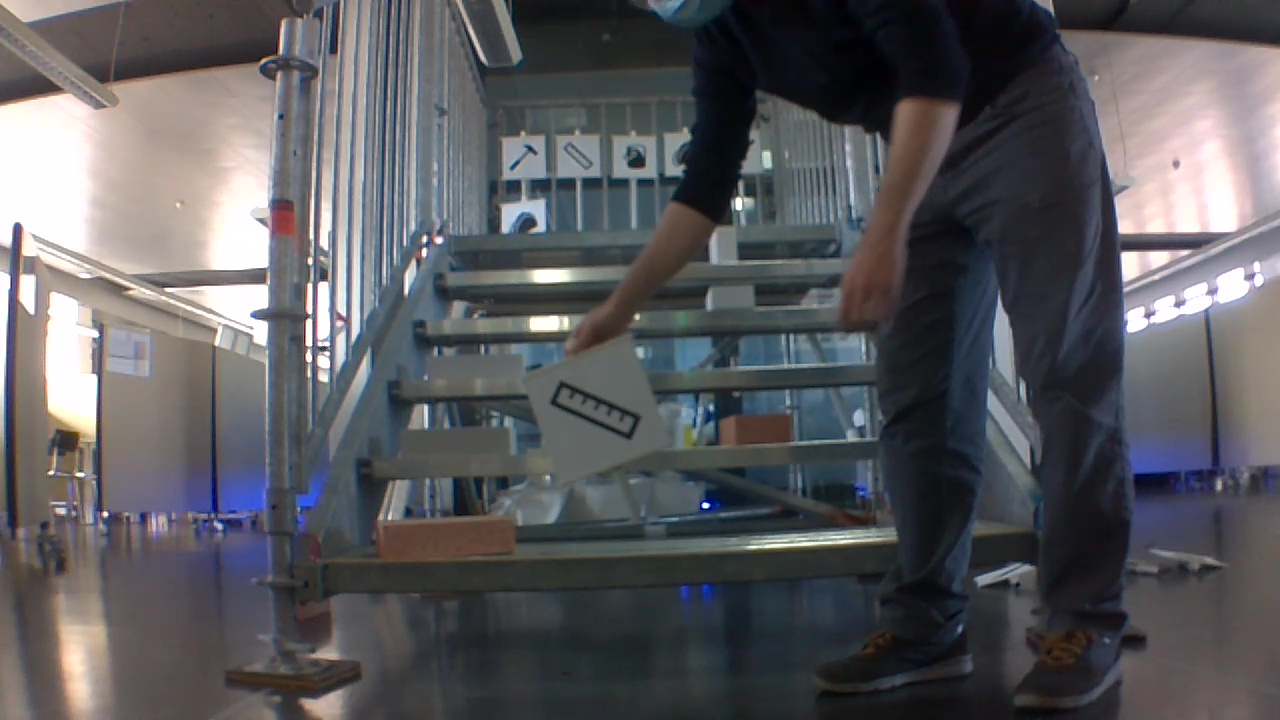brick: (377, 513, 517, 560), (395, 423, 512, 457), (425, 349, 523, 381), (718, 408, 797, 445), (698, 282, 752, 313), (706, 228, 739, 269)
bucket: (622, 142, 649, 170)
hammer: (508, 143, 538, 168)
ruler: (552, 378, 642, 450), (560, 140, 597, 173)
taco: (508, 209, 535, 237)
